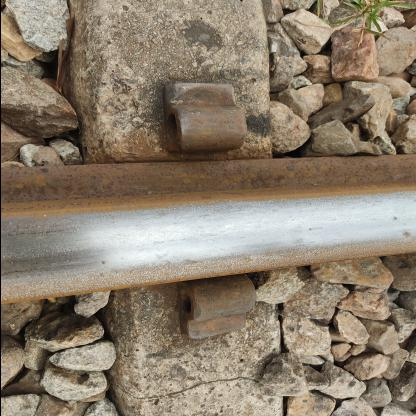Defective 1: (112, 67, 270, 186), (124, 250, 282, 368)
